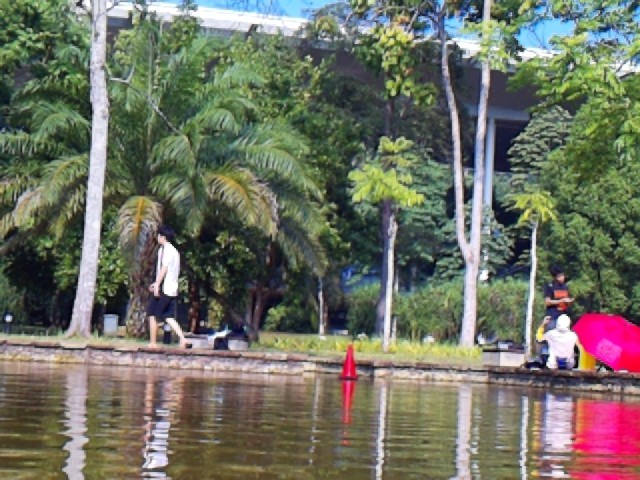obstacle: (337, 344, 361, 381)
